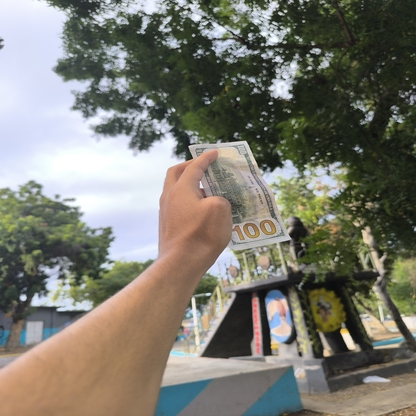one_hundred-back: (185, 137, 296, 258)
